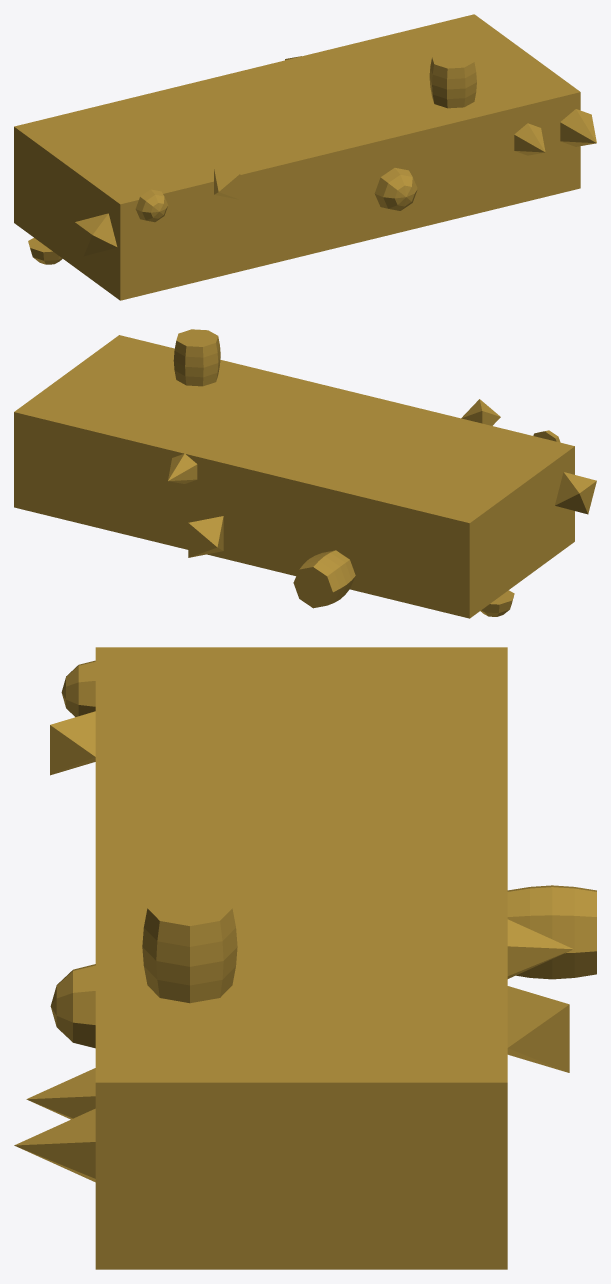
The picture shows the model from 3 angles, top to bottom: view 1: azimuth 30°, elevation 25°; view 2: azimuth 150°, elevation 25°; view 3: azimuth 270°, elevation 25°; orthographic projection. The views are drawn at different scales.
Parts seen in each view (by area): view 1: object02_high; view 2: object02_high; view 3: object02_high.
Boxes of the visible parts, x1,y1,x2,y2 form: object02_high: [14, 14, 596, 300]; object02_high: [14, 329, 596, 618]; object02_high: [14, 647, 596, 1269].
Bounding box in the file's own units: 5.39 × 1.78 × 2.83.
